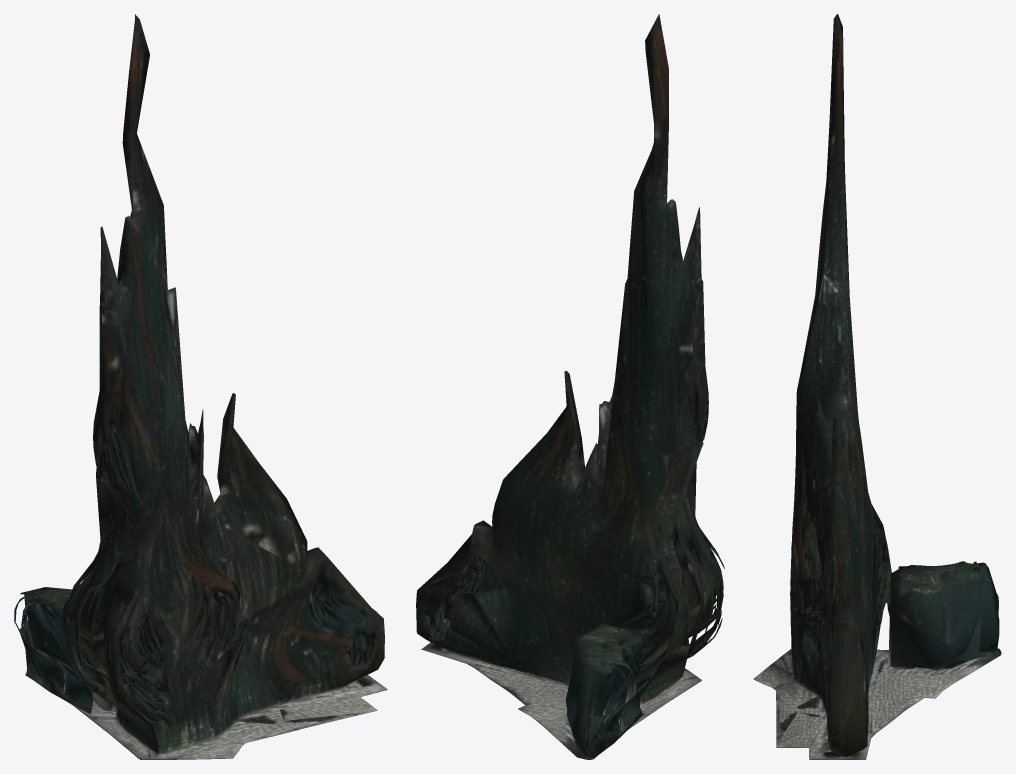
File: flame.glb
3 views of the same model, side by side, from view 1: azimuth 30°, elevation 25°; view 2: azimuth 150°, elevation 25°; view 3: azimuth 270°, elevation 25° (orthographic). The views are drawn at different scales.
Visible parts, largest first — view 1: node_0; view 2: node_0; view 3: node_0.
Part boxes in pixels (box(x1,y1,x2,y2)): node_0: box(14, 14, 387, 759); node_0: box(416, 14, 724, 759); node_0: box(753, 14, 1001, 759).
Bounding box in the file's own units: 0.4943 × 1.09 × 0.3809.
Materials: 1 (1 with a texture image).
